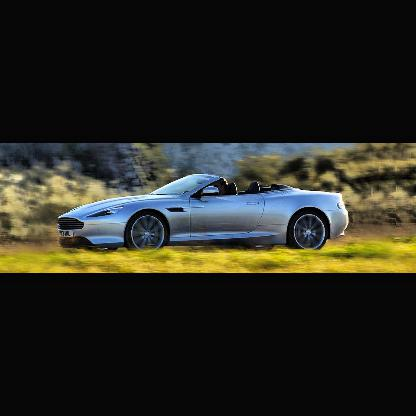Aston Martin Virage Convertible 2012: (59, 176, 350, 253)
